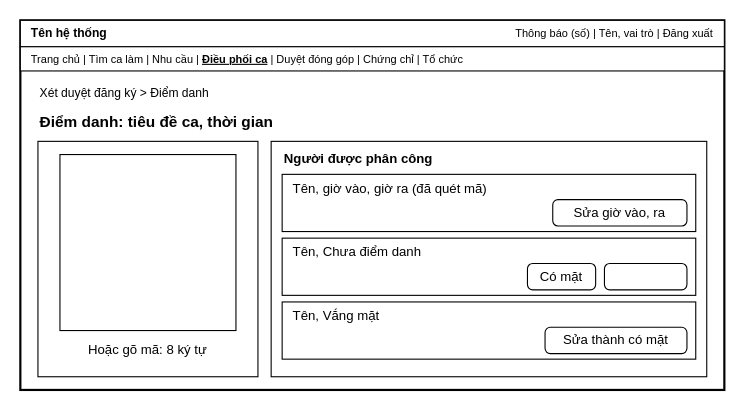
This 744x409 diagram has some shape labels left out. The box of each missing label's shape, as (x1, y1, x2, y2) in pixels:
Mã QR của ca (đổi mỗi 2 phút): (59, 153, 236, 331)
Vắng mặt: (603, 262, 687, 290)
